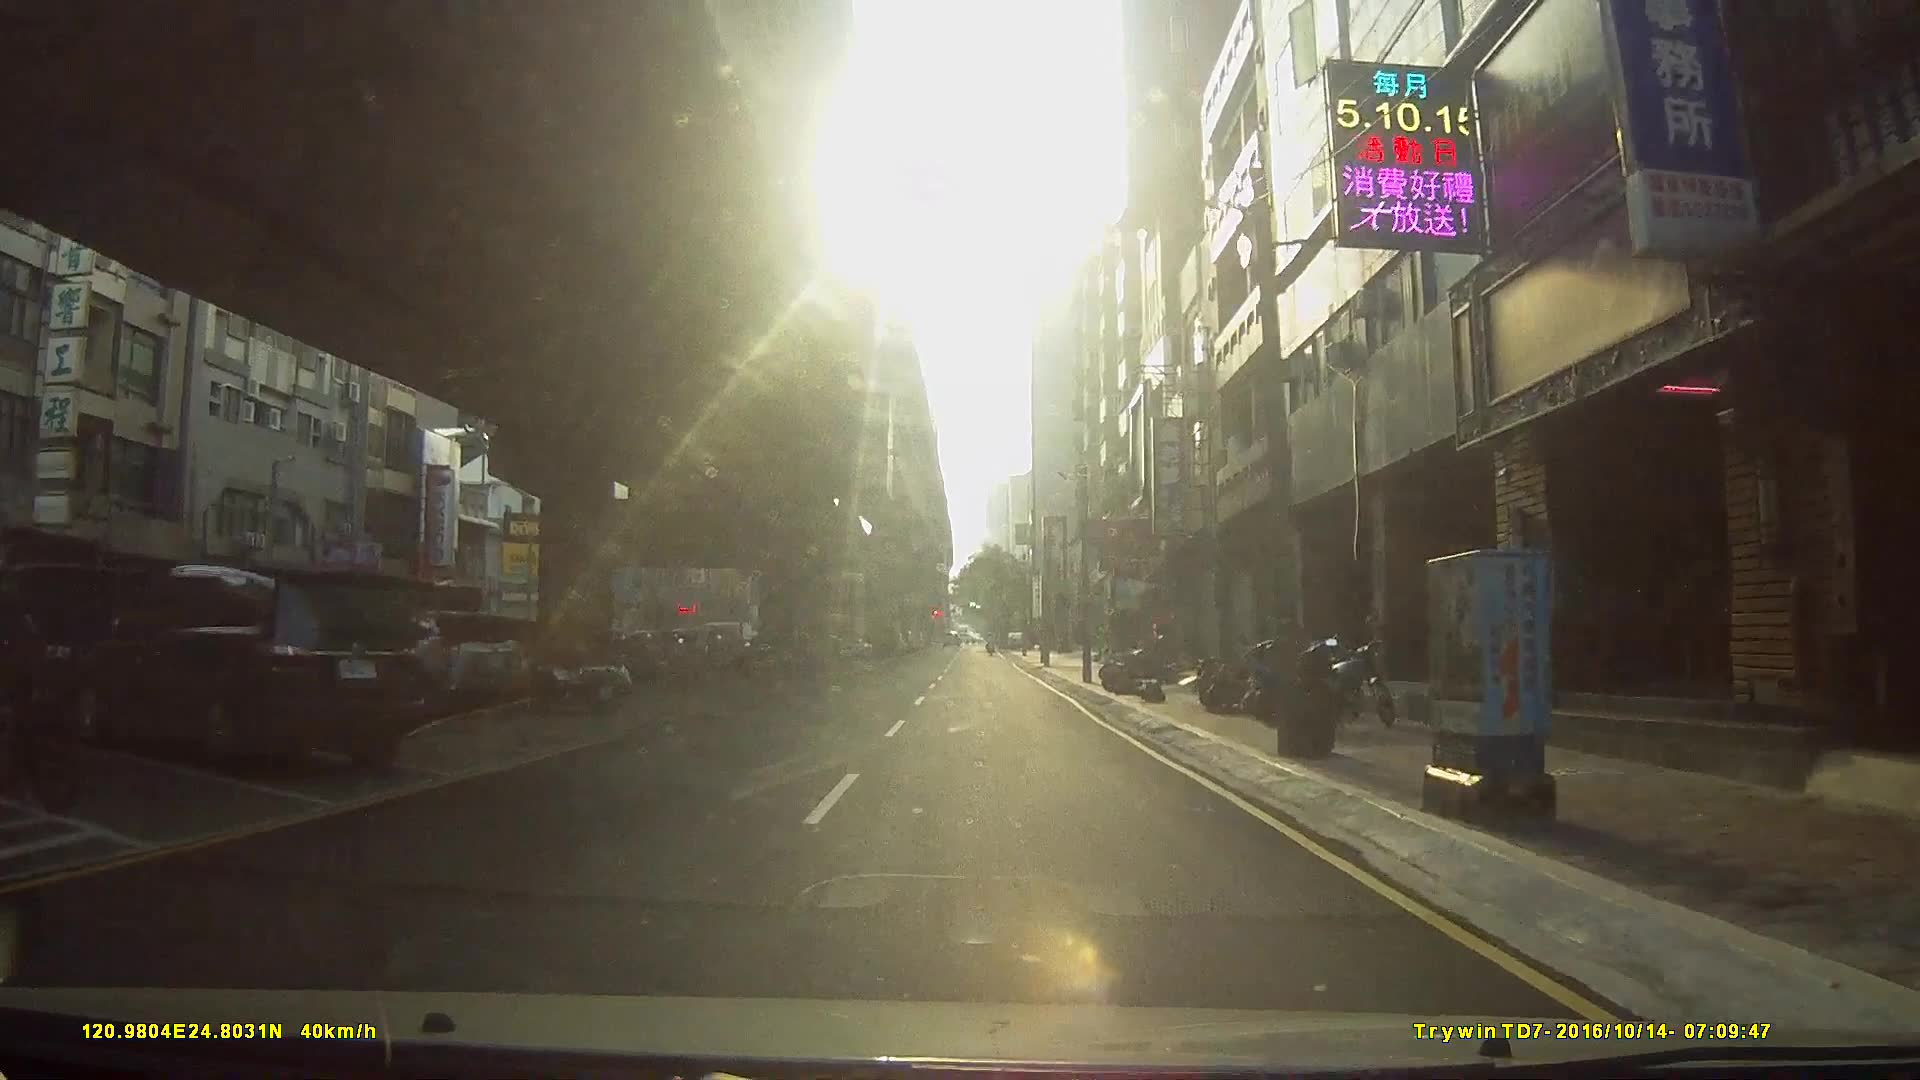vehicle: (55, 555, 419, 767), (342, 611, 529, 713), (427, 618, 632, 708)
